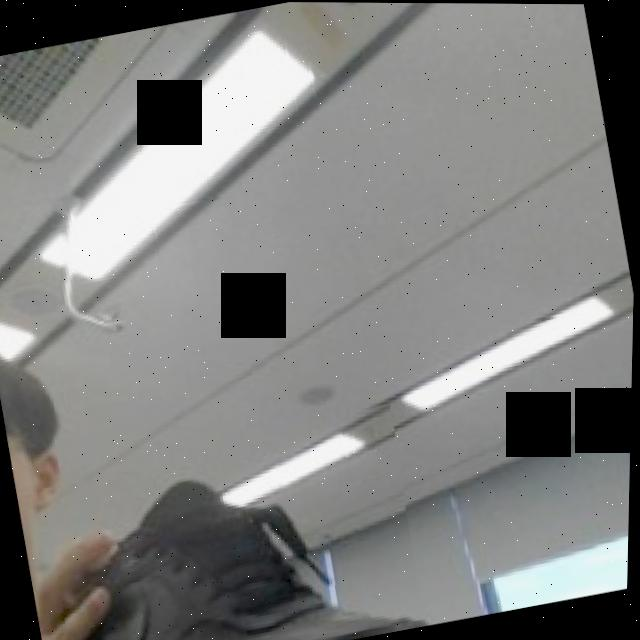shoe: (37, 396, 433, 640)
